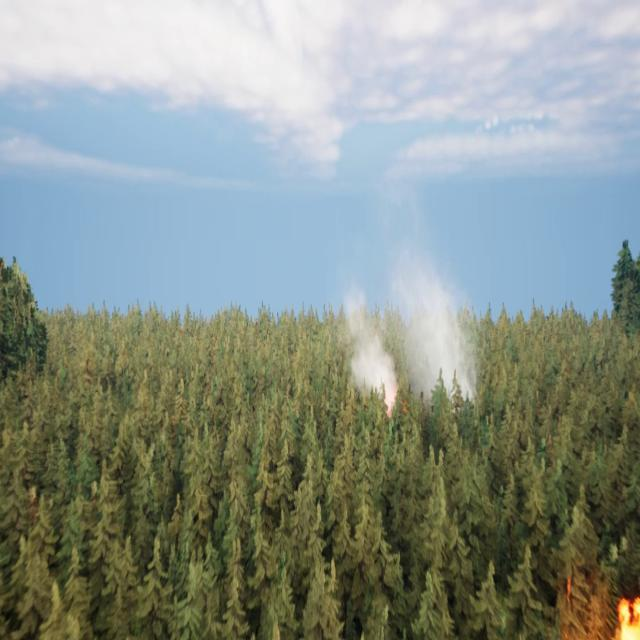fire: (606, 591, 640, 639)
smoke: (339, 203, 484, 421)
